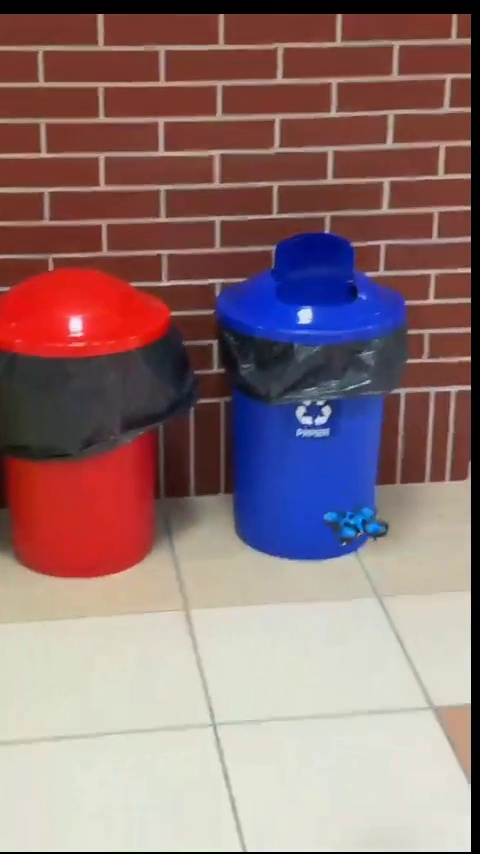drone: (320, 506, 380, 547)
